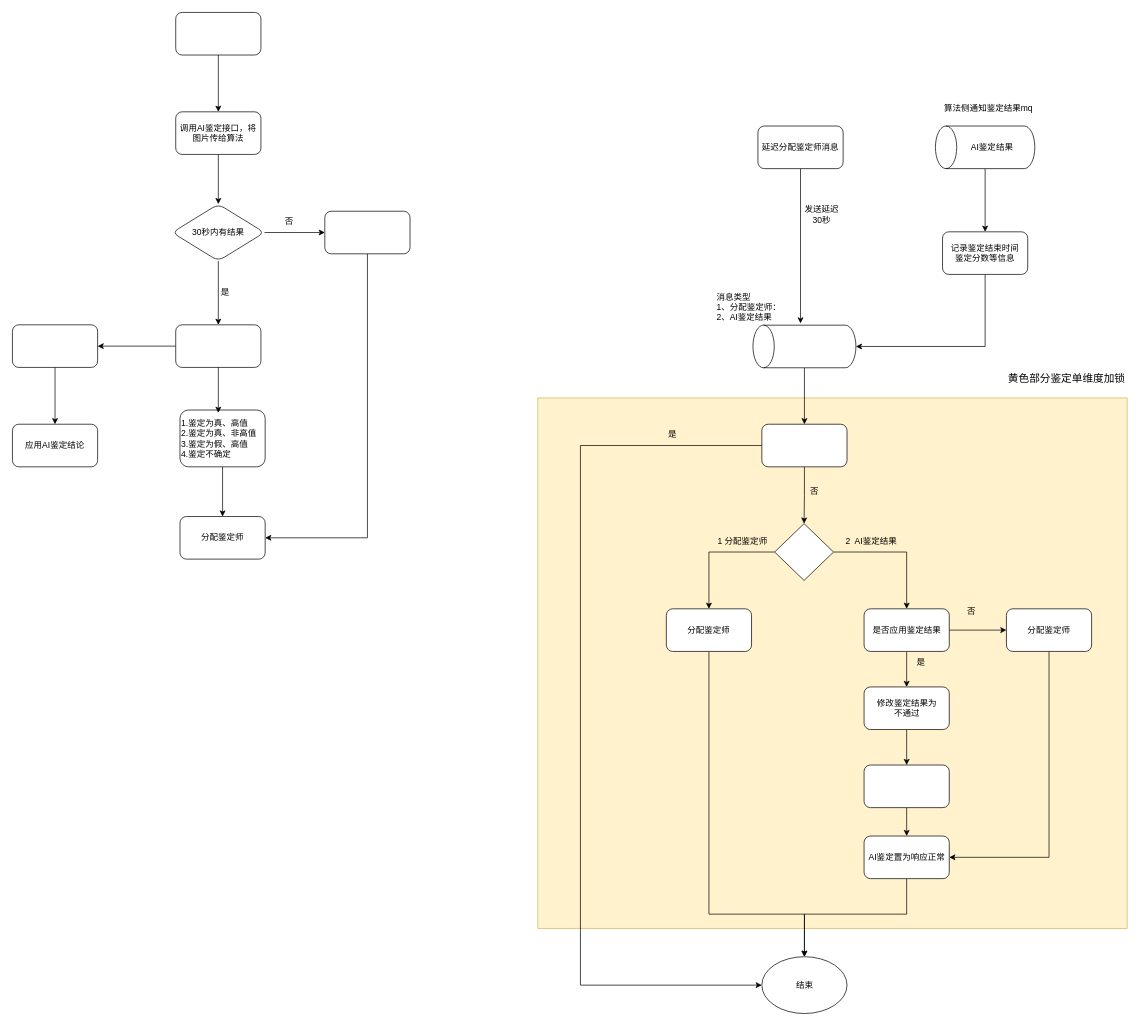
The diagram is 1147 pixels wide and 1026 high, and some of its shapes have lost their labels. The shapes that lost their labels are listed below. From the top down, each one's box as (x1, y1, x2, y2) in pixels, then its label:
(175, 12, 261, 55): 工程师提交鉴定图
(324, 211, 410, 254): AI鉴定超时
(12, 324, 98, 367): 非高值、鉴定为假
(175, 324, 261, 367): AI鉴定结论
(761, 424, 847, 467): 是否已经分配了鉴定师（真人或AI都算）
(774, 523, 834, 580): 消息类型
(863, 764, 949, 808): 鉴定师置为AI鉴定师
